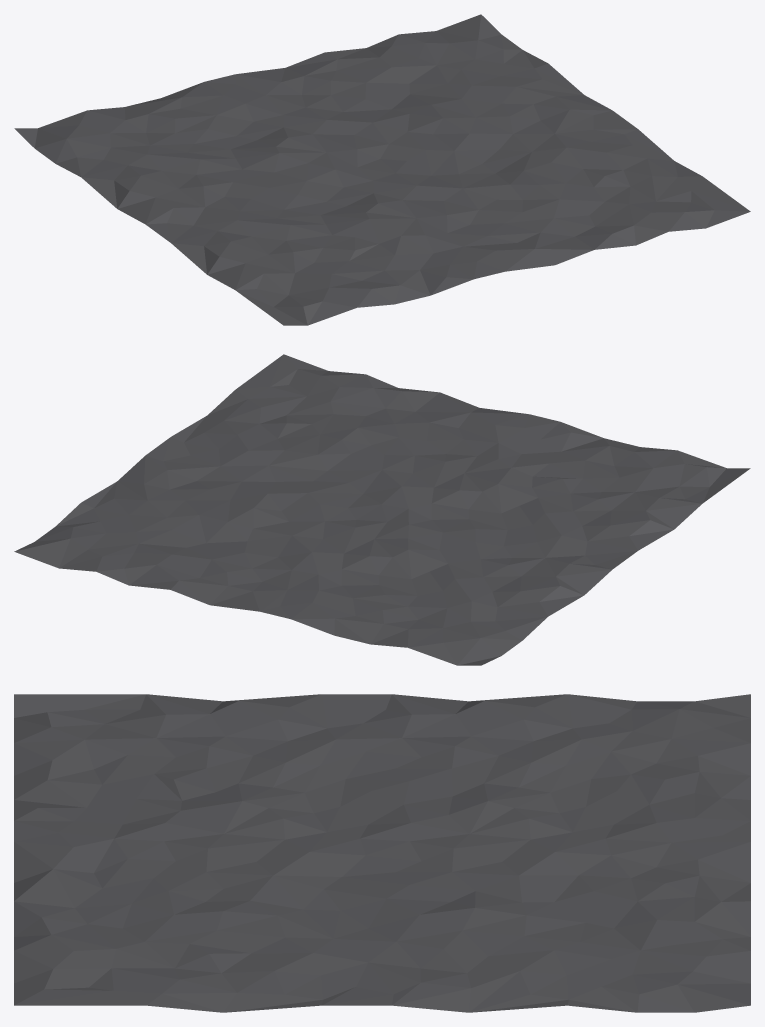
Rendered from ZLP_Ground_B_3.FBX.
3 views of the same model, one above another, from view 1: azimuth 30°, elevation 25°; view 2: azimuth 150°, elevation 25°; view 3: azimuth 270°, elevation 25° (orthographic). The views are drawn at different scales.
Parts seen in each view (by area): view 1: ZLP_Ground_B_3; view 2: ZLP_Ground_B_3; view 3: ZLP_Ground_B_3.
Boxes of the visible parts, bbox=[...] form: ZLP_Ground_B_3: bbox=[14, 14, 750, 325]; ZLP_Ground_B_3: bbox=[14, 354, 750, 665]; ZLP_Ground_B_3: bbox=[14, 694, 750, 1012].
Bounding box in the file's own units: 600 × 12.36 × 600.
